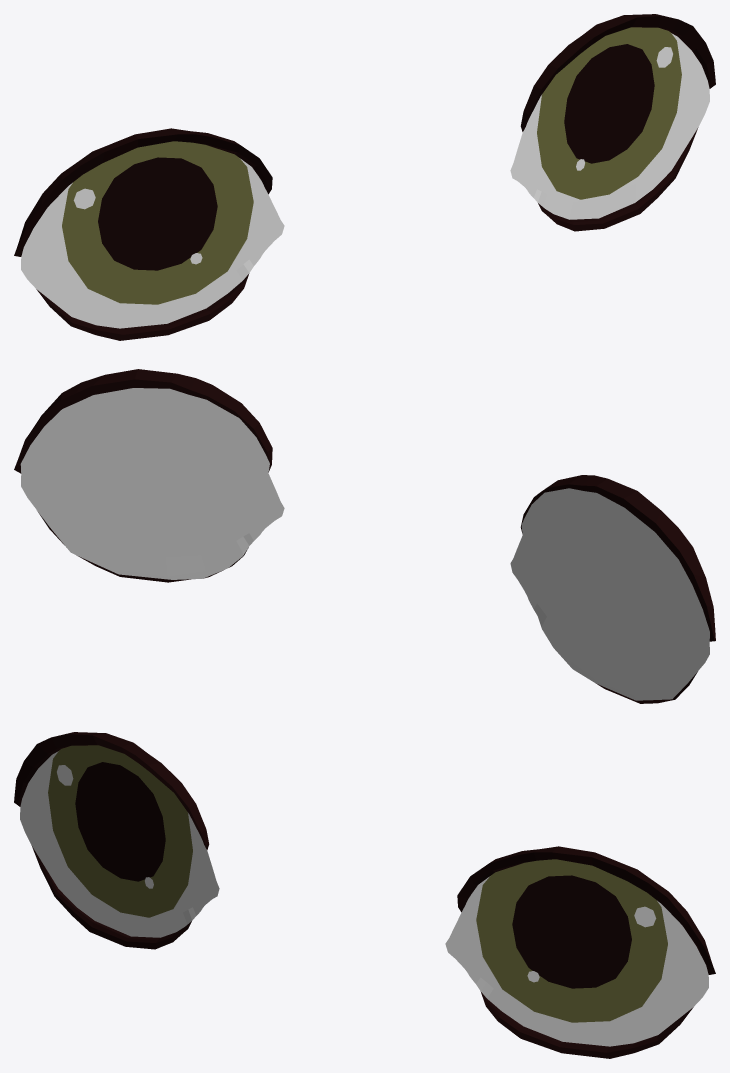
Rendered from eyes_round.glb.
The picture shows the model from 3 angles, top to bottom: view 1: azimuth 30°, elevation 25°; view 2: azimuth 150°, elevation 25°; view 3: azimuth 330°, elevation 25°; orthographic projection.
Parts seen in each view (by area): view 1: eyes_round; view 2: eyes_round; view 3: eyes_round.
Boxes of the visible parts, bbox=[...] form: eyes_round: bbox=[14, 14, 715, 340]; eyes_round: bbox=[14, 369, 715, 703]; eyes_round: bbox=[14, 732, 715, 1058].
Bounding box in the file's own units: 0.196 × 0.0546 × 0.0174.
